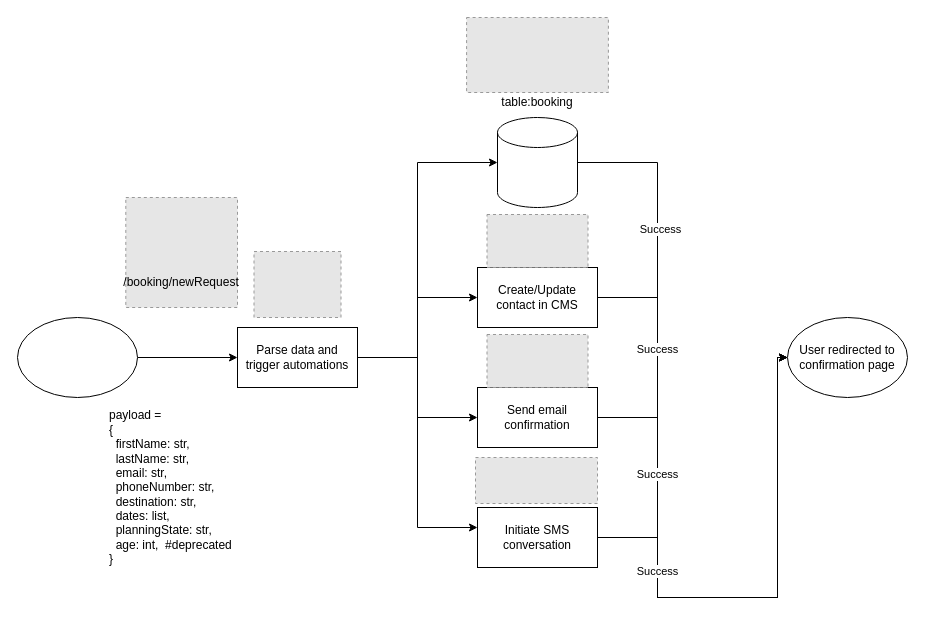
This 925x623 diagram has some shape labels left out. Grey dashed boxes stand in for pictures. Here are the shapes that lost their labels. From the top down, the box of each, then its label:
(496, 116, 578, 208): Record booking request
(16, 316, 138, 398): User submits
